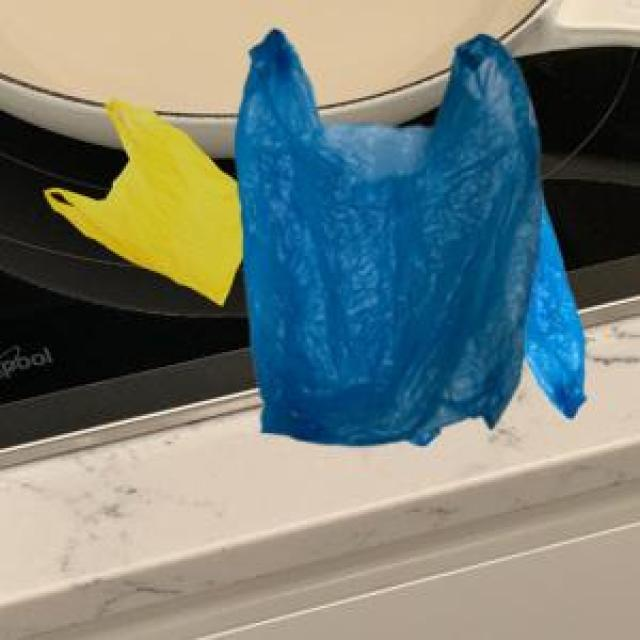plastic: (40, 25, 599, 465)
